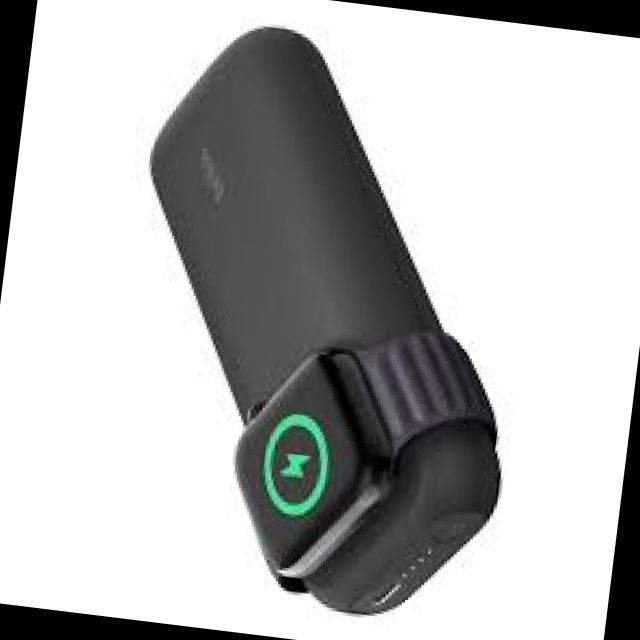portable-charger: (92, 11, 556, 630)
